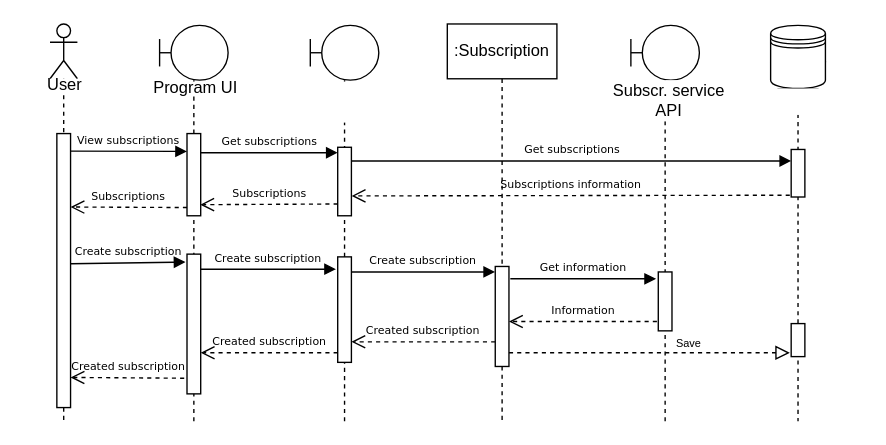
The diagram is 886 pixels wide and 445 high, and some of its shapes have lost their labels. Here are the shapes that lost their labels. From the top down, the centre of each, then its label:
the point at 348,101: Subscriptions controler
the point at 797,101: Data base
